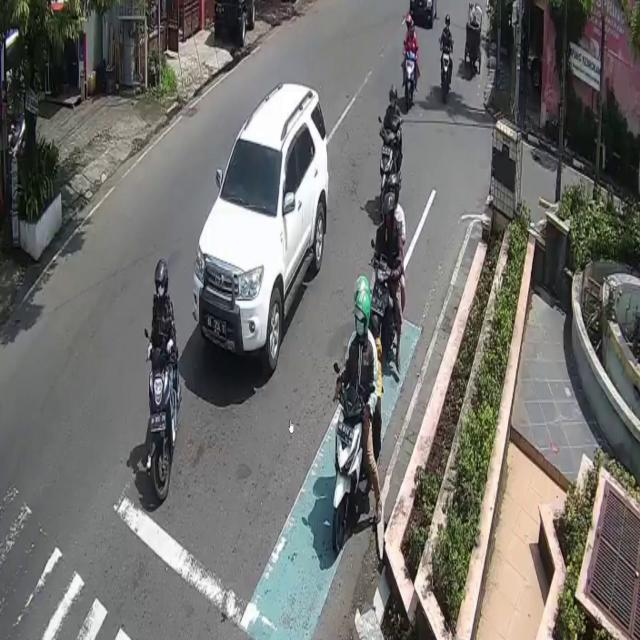car: (192, 80, 328, 374)
motorbike: (334, 386, 366, 552), (150, 346, 176, 499), (379, 124, 402, 198), (403, 48, 418, 110), (438, 40, 452, 101)
